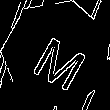M_NE: (25, 21, 90, 87)
